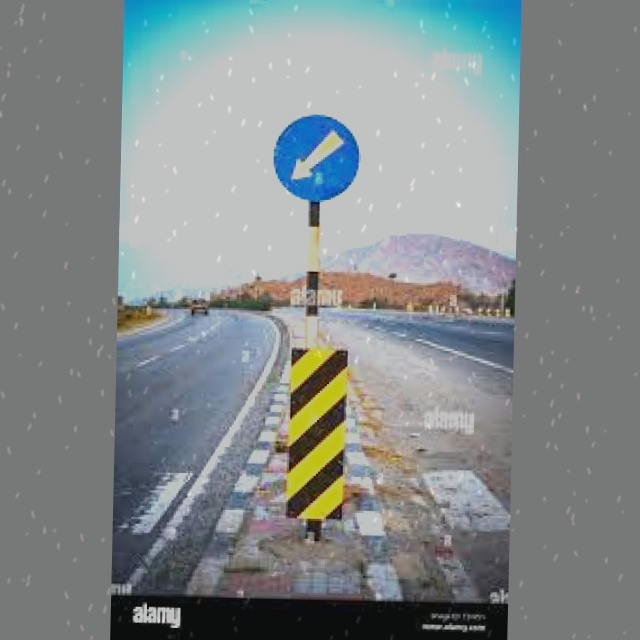Compulsory_Keep_Left: (268, 111, 373, 207)
